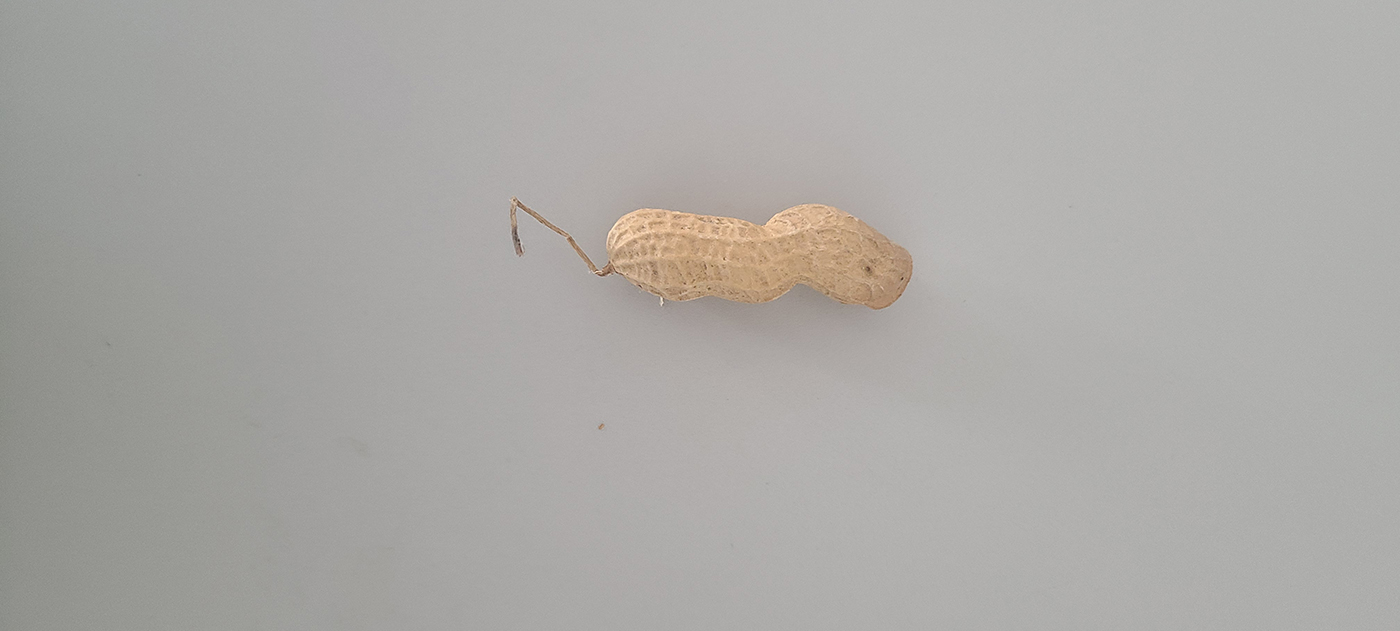h: (606, 199, 918, 313)
